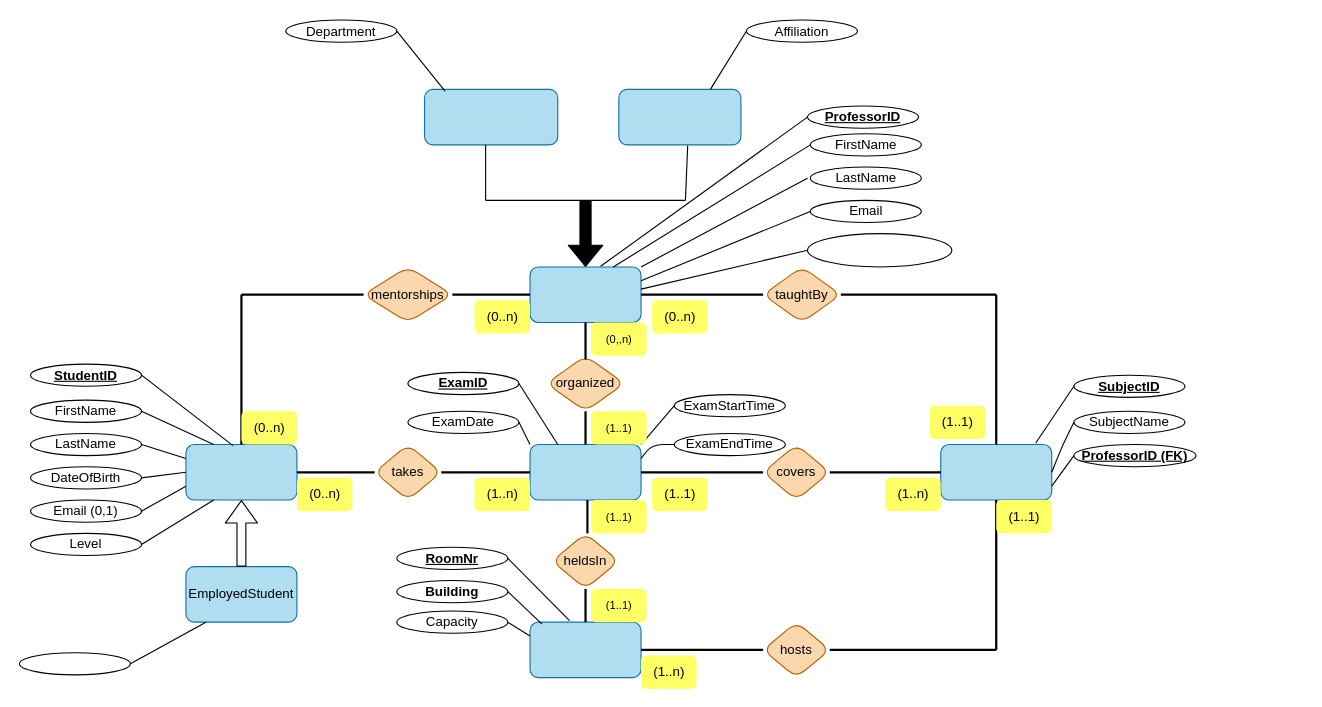
Some shapes in this 1322 by 707 pixel diagram are drawn without their labels. The centre of each missing label's shape, as x and y in pixels:
"Classroom" goes at (585,649).
"Exam" goes at (585,471).
"ExternalProfessor" goes at (679,116).
"PhoneNumbers(1,n)" goes at (879,250).
"Professor" goes at (585,294).
"Student" goes at (241,471).
"Subject" goes at (996,471).
"UniversityProfessor" goes at (490,116).
"Work (0,1)" goes at (74,663).
